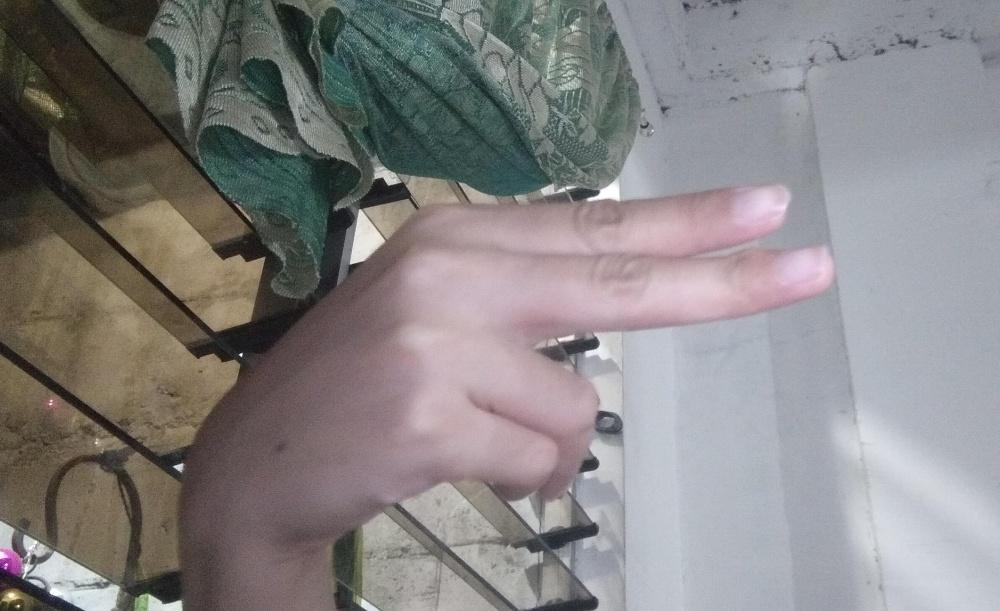h: (177, 179, 837, 543)
